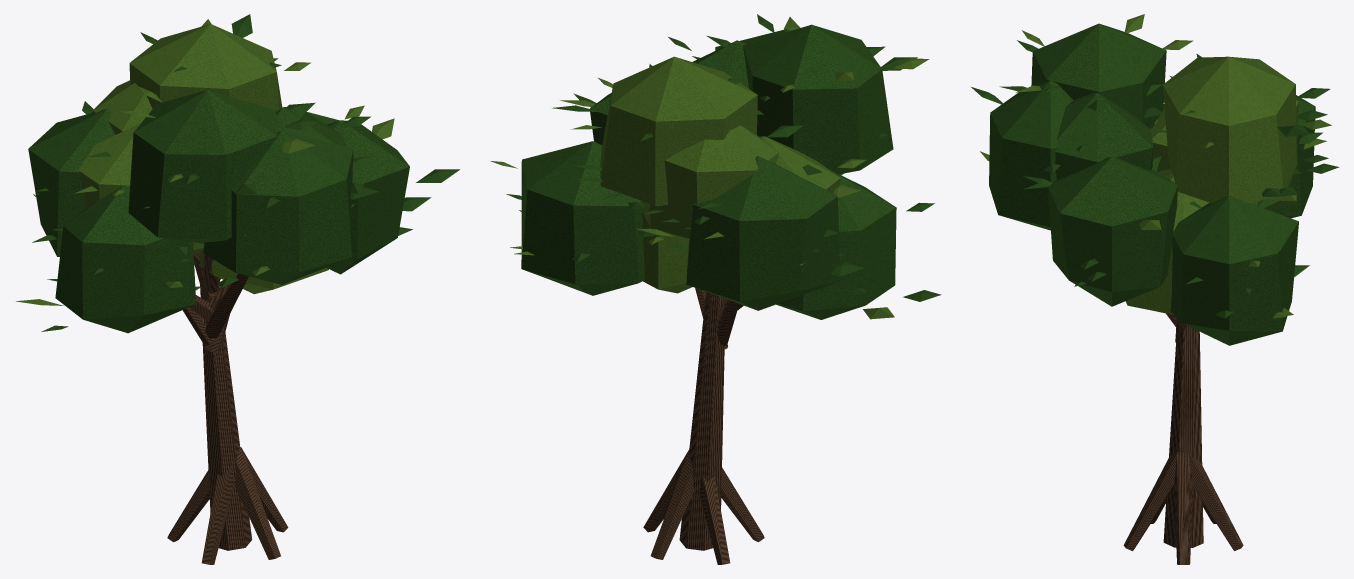
Rendered from broadleaf_spreading_01.fbx.
3 views of the same model, side by side, from view 1: azimuth 30°, elevation 25°; view 2: azimuth 150°, elevation 25°; view 3: azimuth 270°, elevation 25° (orthographic). The views are drawn at different scales.
Parts seen in each view (by area): view 1: broadleaf_spreading_01_LOD0; view 2: broadleaf_spreading_01_LOD0; view 3: broadleaf_spreading_01_LOD0.
Part boxes in pixels (bbox=[...]): broadleaf_spreading_01_LOD0: bbox=[16, 14, 459, 564]; broadleaf_spreading_01_LOD0: bbox=[490, 14, 941, 564]; broadleaf_spreading_01_LOD0: bbox=[971, 14, 1339, 564].
Size of what is drawn, in the model's own units: 0.8234 by 1 by 0.6888.
1 material, 1 textured.
